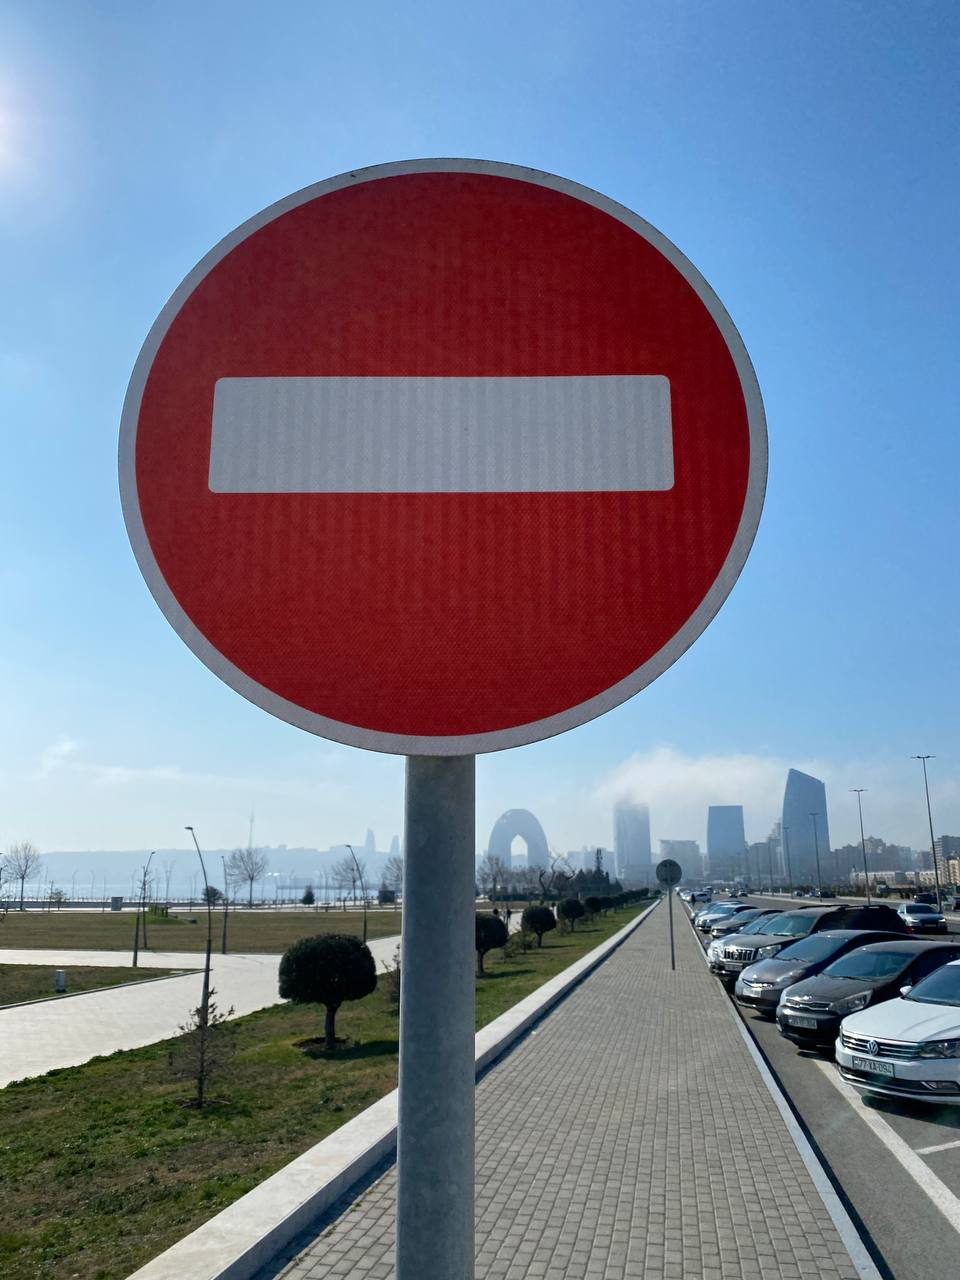No Entry: (116, 150, 768, 757)
